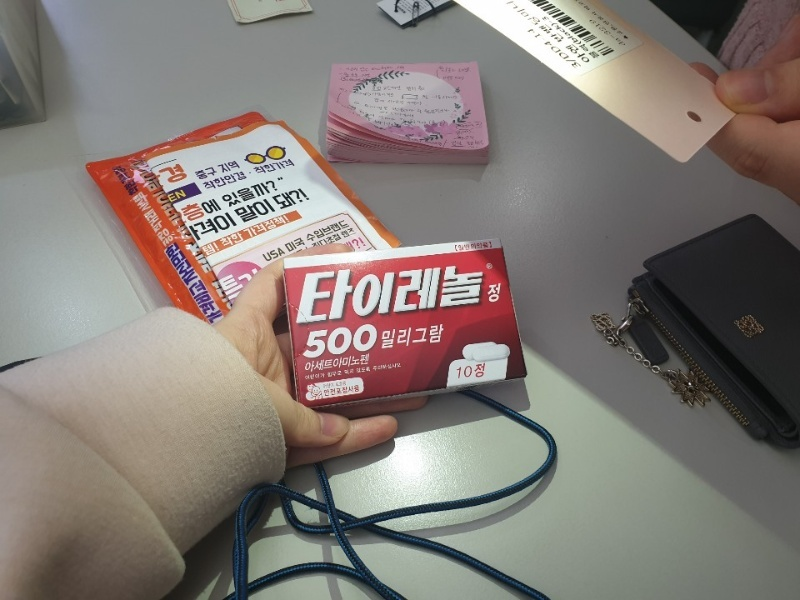tylenol: (282, 237, 531, 406)
